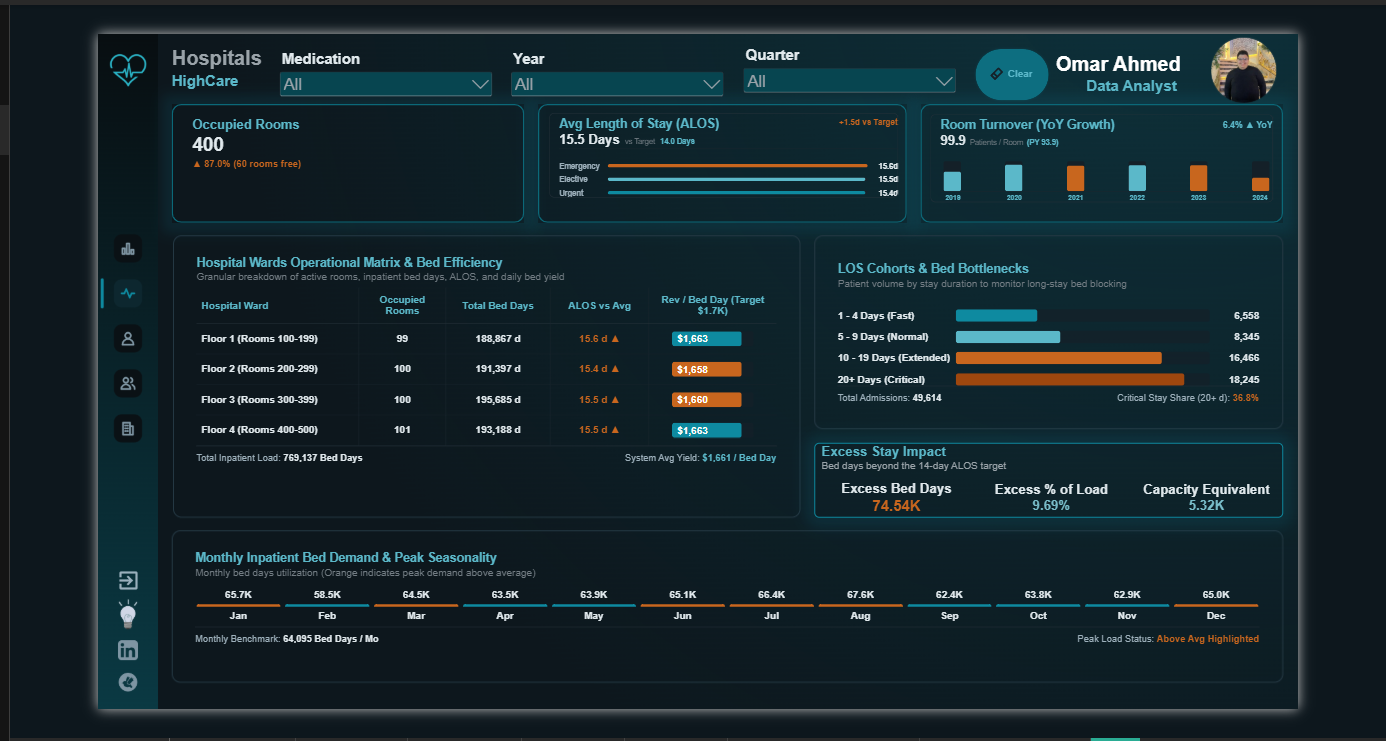

Layout of this report page (visuals, bound fields, positions):
{"tool":"powerbi","page":{"name":"Hospitals","canvas":[1920,1080],"ordinal":2},"visuals":[{"type":"shape","box":[704,112,590,190],"z":0},{"type":"htmlContent443BE3AD55E043BF878BED274D3A6855","title":"KPI card 2","fields":{"content":["Dax_Measures.HTML_Card_ALOS"]},"box":[706,112,590,188],"z":1000},{"type":"shape","box":[1316,112.2,580,190],"z":2000},{"type":"shape","box":[118,112,564,190],"z":3000},{"type":"htmlContent443BE3AD55E043BF878BED274D3A6855","title":"KPI card 1","fields":{"content":["Dax_Measures.HTML_Card_Hospitals"]},"box":[120,115,562.5,185],"z":4000},{"type":"htmlContent443BE3AD55E043BF878BED274D3A6855","title":"KPI card 3","fields":{"content":["Dax_Measures.HTML_Card_Room_Turnover"]},"box":[1316,114,580,186],"z":5000},{"type":"htmlContent443BE3AD55E043BF878BED274D3A6855","fields":{"content":["Dax_Measures.HTML_Matrix_Hospital_Wards"]},"box":[120,322,1004,452],"z":6000},{"type":"htmlContent443BE3AD55E043BF878BED274D3A6855","title":"Chart 5","fields":{"content":["Dax_Measures.HTML_Chart_LOS_Cohorts"]},"box":[1146,322,750,310],"z":7000},{"type":"textbox","title":"Page title","box":[118,20,182,41],"z":8000},{"type":"textbox","title":"Subtitle","box":[118,58,167,41],"z":9000},{"type":"actionButton","title":"Go to Overview","box":[18,313,60,60],"z":10000},{"type":"actionButton","title":"Go to Hospitals","box":[18,385,60,60],"z":11000},{"type":"actionButton","title":"Go to Patients","box":[18,457,60,60],"z":12000},{"type":"actionButton","title":"Go to Doctors","box":[18,529,60,60],"z":13000},{"type":"actionButton","title":"Go to Insurance Companies","box":[18,601,60,60],"z":14000},{"type":"actionButton","title":"LinkedIn","box":[32,970,32,32],"z":15000},{"type":"actionButton","title":"Website","box":[32,1021,32,32],"z":16000},{"type":"image","title":"Logo","box":[14,26,68,64],"z":17000},{"type":"group","id":"g1","title":"Group 1","box":[1526,6,394,104],"z":18000},{"type":"htmlContent443BE3AD55E043BF878BED274D3A6855","title":"Chart 5","fields":{"content":["Dax_Measures.HTML_Chart_Monthly_Seasonality"]},"box":[118,794,1778,244],"z":19000},{"type":"image","box":[1746,6,174,104],"z":20000,"group":"g1"},{"type":"cardVisual","title":"Excess Stay Impact","fields":{"Data":["Dax_Measures.Excess Bed Days","Dax_Measures.Excess % of Load","Dax_Measures.Capacity Equivalent"]},"box":[1146,654,750,120],"z":20000},{"type":"textbox","box":[1526,30,206.5,78.1],"z":21000,"group":"g1"},{"type":"actionButton","box":[1400,20,125,90],"z":25001},{"type":"slicer","fields":{"Values":["Dim_Medications.Medication"]},"box":[285,25,350,87.5],"z":25002},{"type":"slicer","fields":{"Values":["Dim_Date.Year"]},"box":[656.7,25,350,90],"z":25003},{"type":"slicer","fields":{"Values":["Dim_Date.Quarter"]},"box":[1028.3,20,350,90],"z":25004},{"type":"image","box":[10,837.5,77.5,72.5],"z":25005},{"type":"image","box":[18.1,892.2,59.7,72.4],"z":25006}]}

Visuals, with their boxes on the page's 1920x1080 design canvas (x1, y1, x2, y2). These are canvas units, not pixel positions in the 1386x741 screenshot, which may show the page scaled, cropped or inside an application window:
shape: [704,112,1294,302]
"KPI card 2" htmlContent443BE3AD55E043BF878BED274D3A6855: [706,112,1296,300]
shape: [1316,112,1896,302]
shape: [118,112,682,302]
"KPI card 1" htmlContent443BE3AD55E043BF878BED274D3A6855: [120,115,682,300]
"KPI card 3" htmlContent443BE3AD55E043BF878BED274D3A6855: [1316,114,1896,300]
htmlContent443BE3AD55E043BF878BED274D3A6855 - Dax_Measures.HTML_Matrix_Hospital_Wards: [120,322,1124,774]
"Chart 5" htmlContent443BE3AD55E043BF878BED274D3A6855: [1146,322,1896,632]
"Page title" textbox: [118,20,300,61]
"Subtitle" textbox: [118,58,285,99]
"Go to Overview" actionButton: [18,313,78,373]
"Go to Hospitals" actionButton: [18,385,78,445]
"Go to Patients" actionButton: [18,457,78,517]
"Go to Doctors" actionButton: [18,529,78,589]
"Go to Insurance Companies" actionButton: [18,601,78,661]
"LinkedIn" actionButton: [32,970,64,1002]
"Website" actionButton: [32,1021,64,1053]
"Logo" image: [14,26,82,90]
"Group 1" group: [1526,6,1920,110]
"Chart 5" htmlContent443BE3AD55E043BF878BED274D3A6855: [118,794,1896,1038]
image: [1746,6,1920,110]
"Excess Stay Impact" cardVisual: [1146,654,1896,774]
textbox: [1526,30,1732,108]
actionButton: [1400,20,1525,110]
slicer - Dim_Medications.Medication: [285,25,635,112]
slicer - Dim_Date.Year: [657,25,1007,115]
slicer - Dim_Date.Quarter: [1028,20,1378,110]
image: [10,838,88,910]
image: [18,892,78,965]
